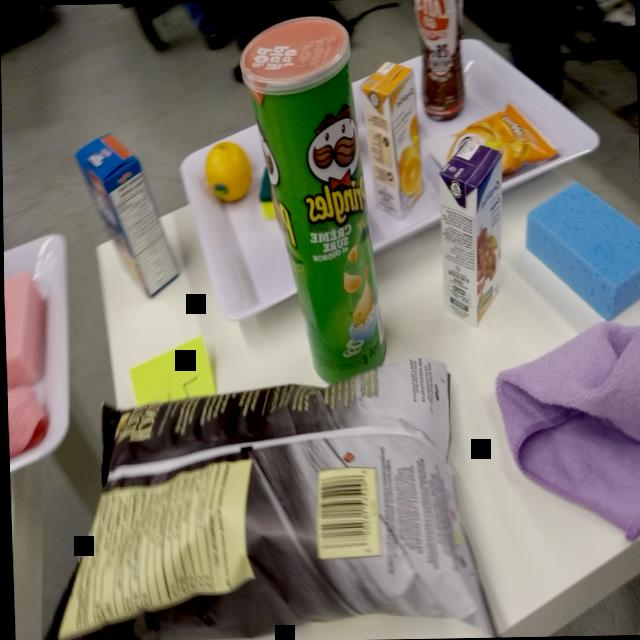cereal: (70, 124, 180, 302)
chocolate_drink: (410, 0, 469, 121)
crackers: (445, 98, 550, 177)
grape_juice: (434, 136, 505, 333)
orange: (201, 133, 255, 211)
orange_juice: (359, 57, 425, 226)
potato_chips: (20, 354, 476, 640)
pringles: (238, 9, 384, 386)
sponge_opl: (520, 176, 640, 309)
